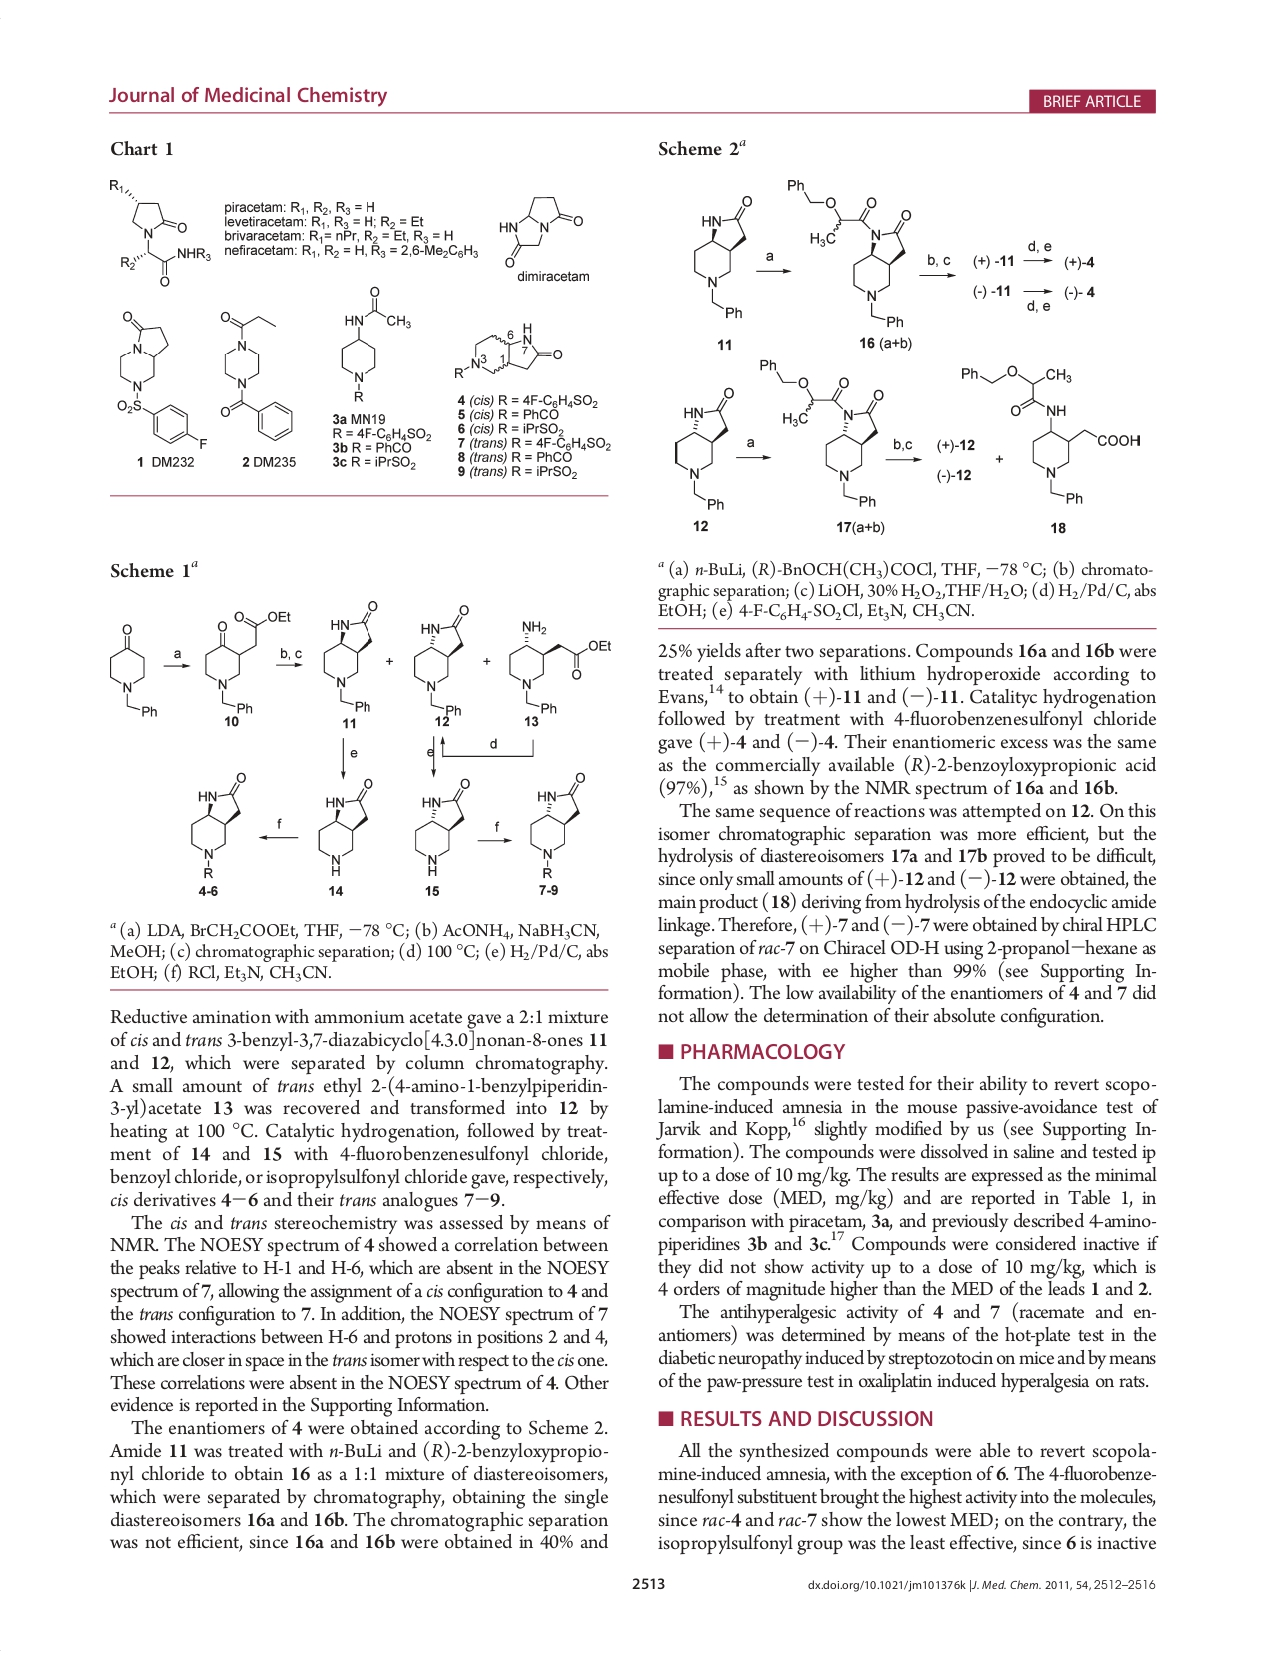exist_molecular: (957, 360, 1144, 504), (754, 354, 884, 515), (786, 174, 912, 330), (108, 303, 211, 452), (100, 172, 211, 291), (213, 306, 297, 442), (501, 617, 616, 715), (199, 606, 293, 715), (685, 188, 753, 324), (335, 283, 411, 406), (672, 383, 735, 511), (410, 602, 473, 715), (185, 771, 247, 879), (320, 598, 378, 714), (449, 322, 563, 380), (493, 195, 584, 267), (98, 617, 162, 717), (527, 773, 586, 879), (316, 777, 376, 876), (412, 778, 472, 876)
